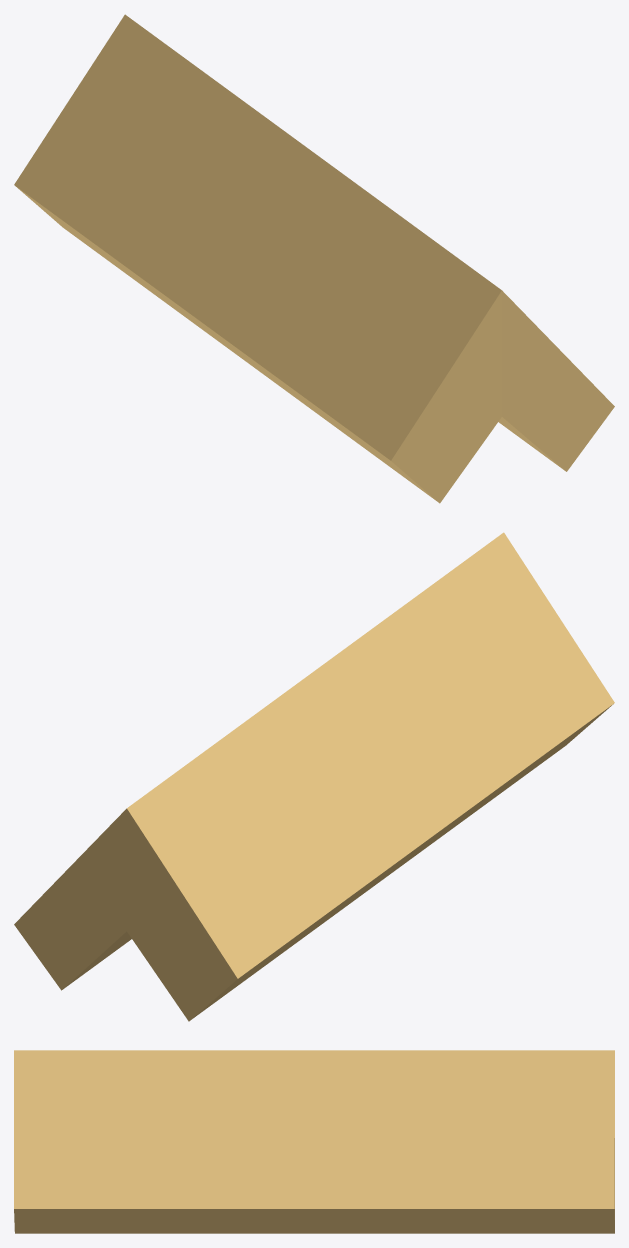
The model's file is BuildingRoofTop1m1.fbx.
3 views of the same model, one above another, from view 1: azimuth 30°, elevation 25°; view 2: azimuth 150°, elevation 25°; view 3: azimuth 270°, elevation 25° (orthographic). The views are drawn at different scales.
Parts seen in each view (by area): view 1: building_roof_top_1m_1; view 2: building_roof_top_1m_1; view 3: building_roof_top_1m_1.
Boxes of the visible parts, x1=… form: building_roof_top_1m_1: x1=14, y1=14, x2=614, y2=503; building_roof_top_1m_1: x1=14, y1=532, x2=614, y2=1021; building_roof_top_1m_1: x1=14, y1=1050, x2=614, y2=1233.
Size of the model in its own units: 34.3 by 29 by 100.
